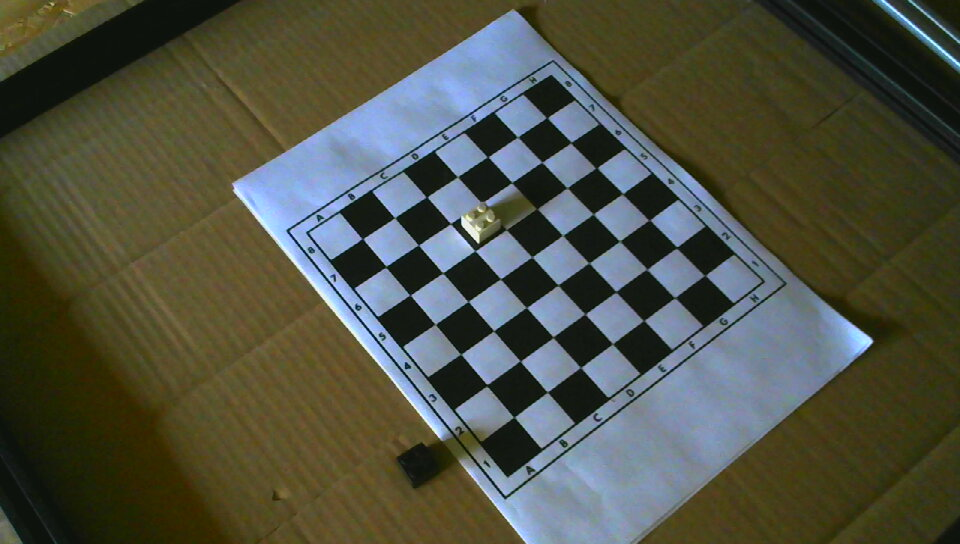bp: (398, 443, 439, 486)
wp: (461, 202, 500, 243)
